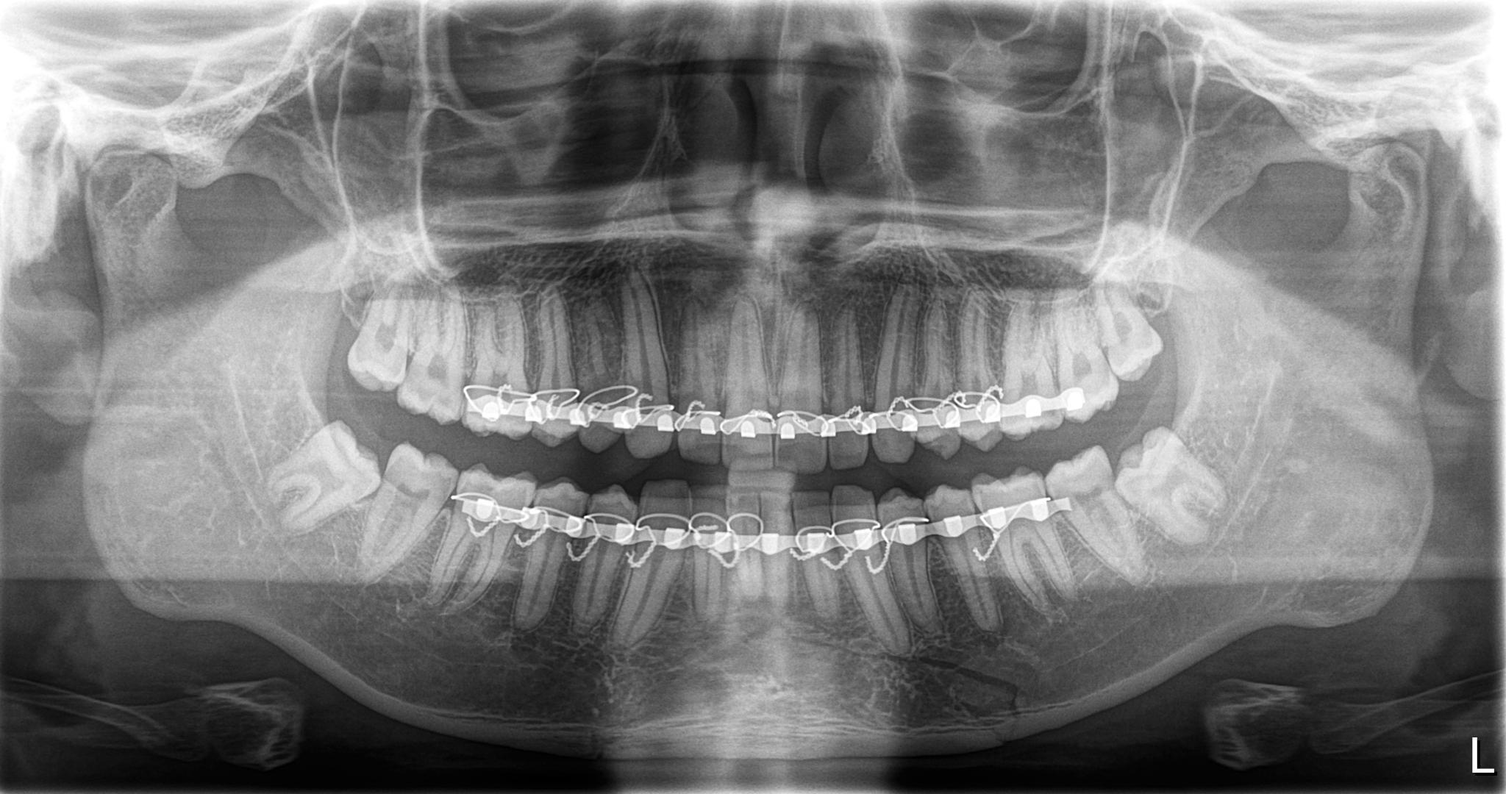Impacted Third Molar: (1125, 432, 1242, 549), (283, 414, 379, 521)
